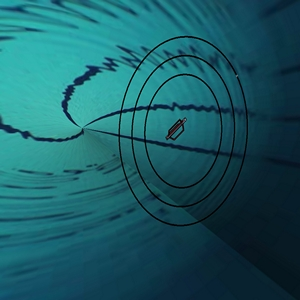circle: (114, 30, 255, 232)
submarine: (158, 108, 197, 149)
